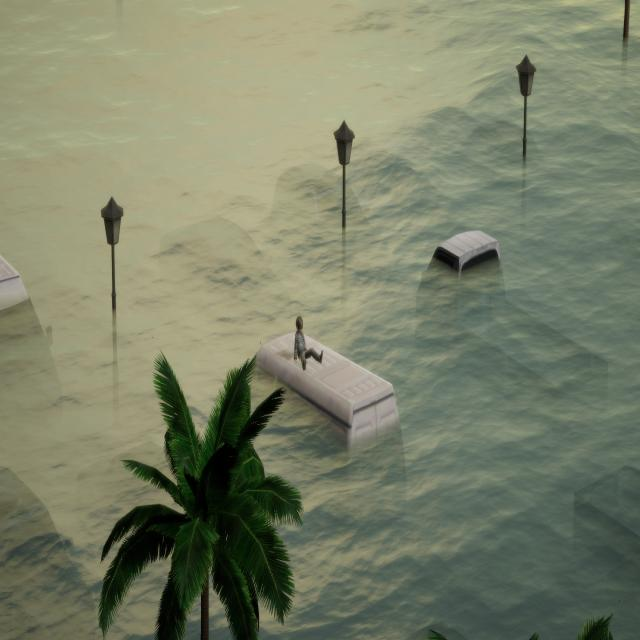Human: (285, 306, 330, 375)
